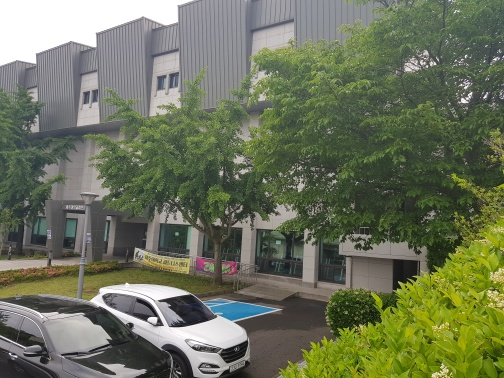Gym: (8, 2, 425, 288), (31, 7, 264, 112), (34, 187, 150, 258)
